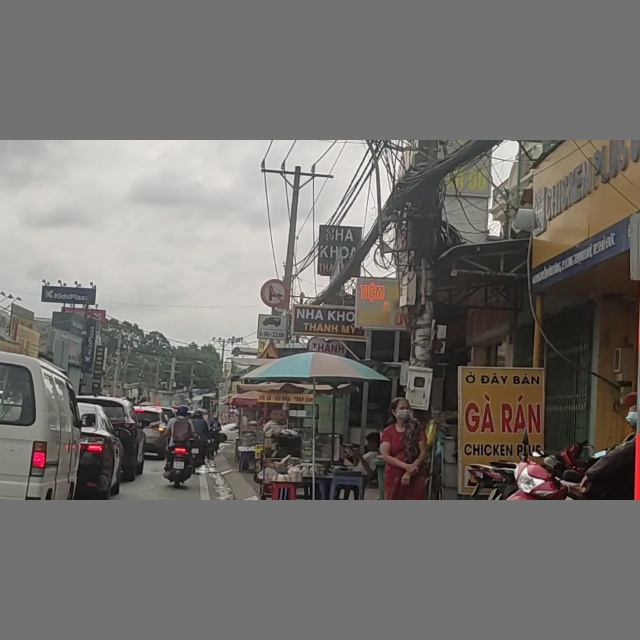P.139: (261, 277, 289, 306)
S.505a*Xe tai: (257, 316, 289, 339)
W.205b: (254, 346, 286, 361)
